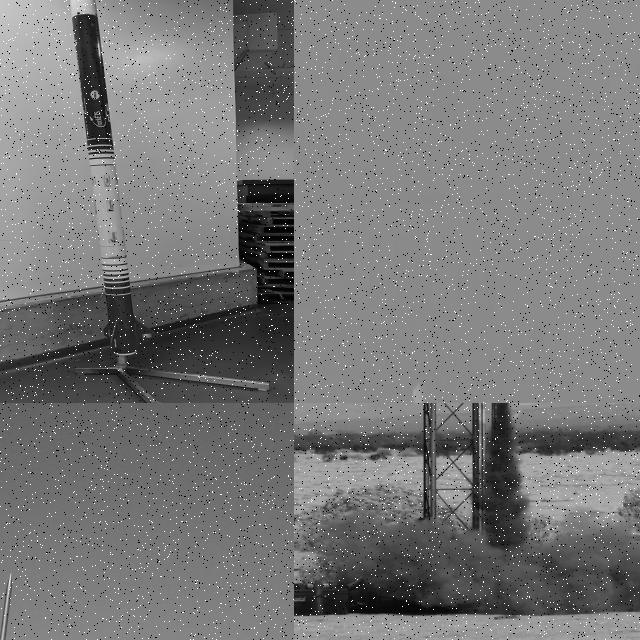Rocket: (70, 0, 156, 356), (0, 572, 15, 640), (412, 383, 428, 403)
